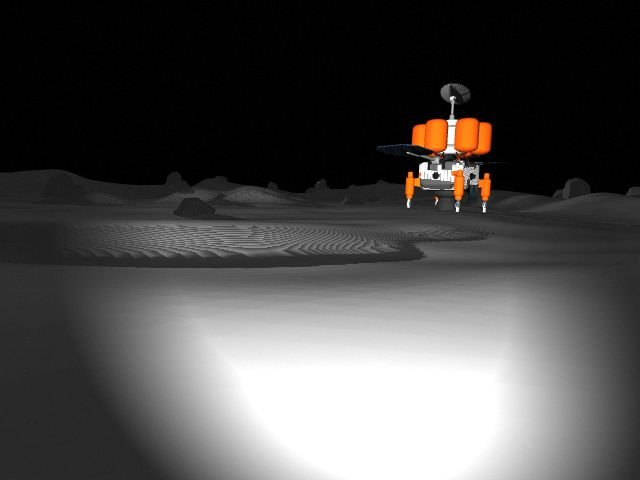homebase: (371, 80, 520, 216)
